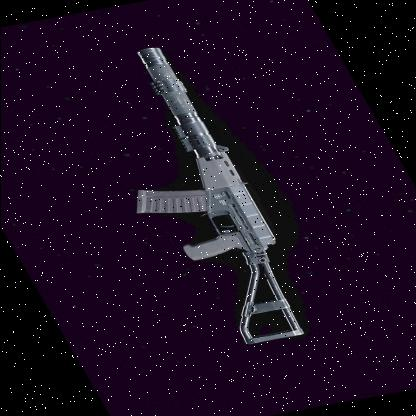rifle: (45, 36, 345, 358)
